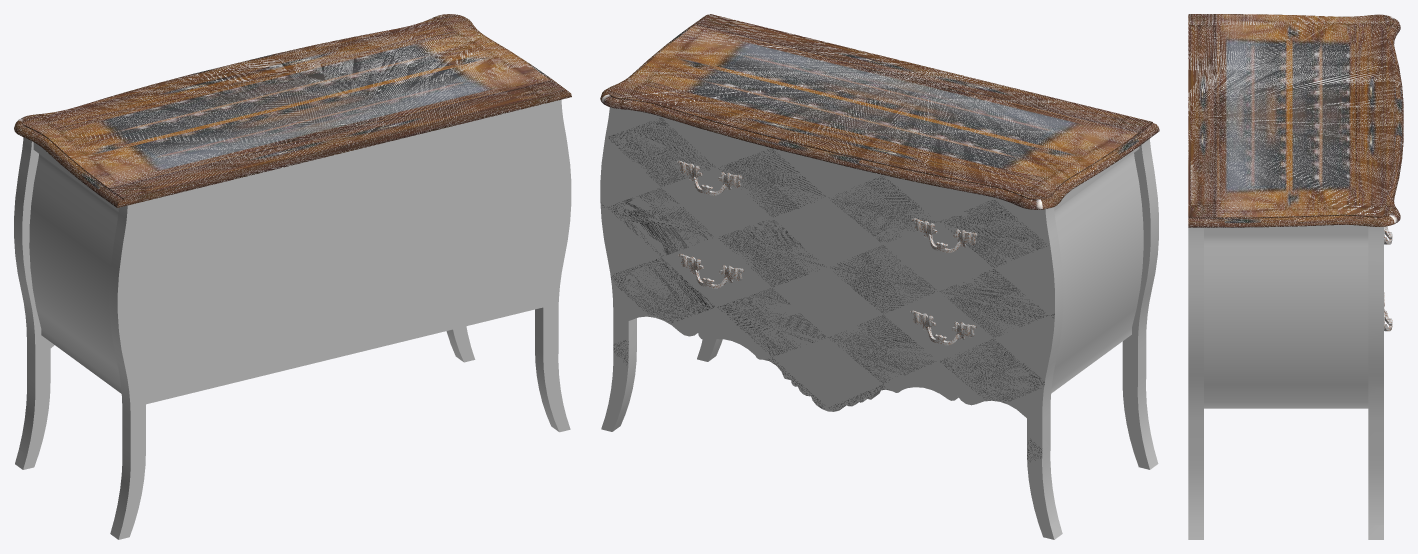
The picture shows the model from 3 angles, left to right: view 1: azimuth 30°, elevation 25°; view 2: azimuth 150°, elevation 25°; view 3: azimuth 270°, elevation 25°; orthographic projection. The views are drawn at different scales.
Visible parts, largest first — view 1: mesh31_mesh31-geometry, mesh12_mesh12-geometry, mesh30_mesh30-geometry, mesh11_mesh11-geometry, mesh35_mesh35-geometry, mesh20_mesh20-geometry, mesh1_mesh1-geometry; view 2: mesh30_mesh30-geometry, mesh11_mesh11-geometry, mesh26_mesh26-geometry, mesh7_mesh7-geometry, mesh28_mesh28-geometry, mesh9_mesh9-geometry, mesh20_mesh20-geometry, mesh35_mesh35-geometry, mesh1_mesh1-geometry, mesh31_mesh31-geometry; view 3: mesh16_mesh16-geometry, mesh11_mesh11-geometry, mesh30_mesh30-geometry, mesh1_mesh1-geometry, mesh12_mesh12-geometry, mesh18_mesh18-geometry.
Part boxes in pixels (x1,y1,x2,y2): mesh31_mesh31-geometry: (109, 152, 344, 539); mesh12_mesh12-geometry: (344, 99, 571, 432); mesh30_mesh30-geometry: (14, 64, 344, 207); mesh11_mesh11-geometry: (232, 14, 571, 152); mesh35_mesh35-geometry: (29, 154, 121, 393); mesh20_mesh20-geometry: (14, 137, 54, 469); mesh1_mesh1-geometry: (446, 326, 475, 362); mesh30_mesh30-geometry: (817, 68, 1159, 209); mesh11_mesh11-geometry: (600, 14, 930, 159); mesh26_mesh26-geometry: (827, 166, 1035, 309); mesh7_mesh7-geometry: (619, 118, 827, 259); mesh28_mesh28-geometry: (827, 259, 1036, 394); mesh9_mesh9-geometry: (619, 208, 827, 346); mesh20_mesh20-geometry: (827, 162, 1063, 539); mesh35_mesh35-geometry: (1051, 153, 1143, 393); mesh1_mesh1-geometry: (600, 107, 827, 431); mesh31_mesh31-geometry: (1122, 139, 1158, 469); mesh16_mesh16-geometry: (1204, 235, 1368, 408); mesh11_mesh11-geometry: (1188, 116, 1403, 227); mesh30_mesh30-geometry: (1188, 14, 1403, 121); mesh1_mesh1-geometry: (1368, 226, 1383, 539); mesh12_mesh12-geometry: (1188, 227, 1203, 539); mesh18_mesh18-geometry: (1204, 225, 1368, 235).
Bounding box in the file's own units: 0.7677 × 0.5472 × 0.3335.
